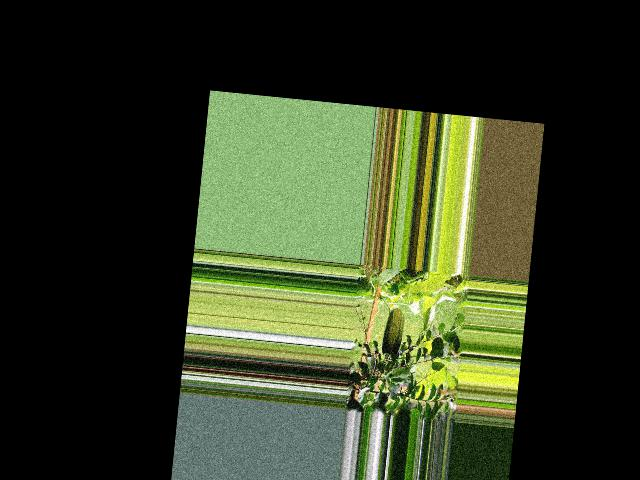cucumber: (380, 307, 405, 361)
